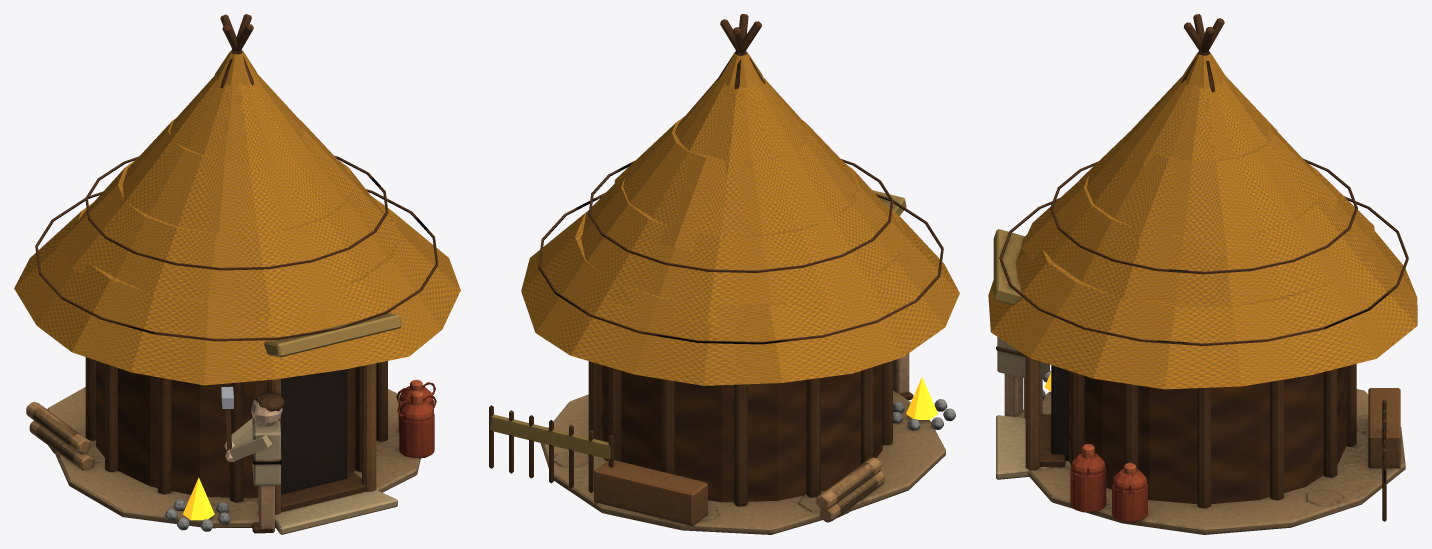
Rendered from chata.glb.
The picture shows the model from 3 angles, left to right: view 1: azimuth 30°, elevation 25°; view 2: azimuth 150°, elevation 25°; view 3: azimuth 270°, elevation 25°; orthographic projection.
Parts seen in each view (by area): view 1: strzecha, chata, sciana_chaty, anim_mlot_rzemieslnik, anim_ogien_palenisko; view 2: strzecha, chata, sciana_chaty, anim_ogien_palenisko; view 3: strzecha, chata, sciana_chaty.
Part boxes in pixels (box(x1,y1,x2,y2)): strzecha: box(14, 50, 460, 385); chata: box(26, 14, 438, 534); sciana_chaty: box(96, 360, 355, 498); anim_mlot_rzemieslnik: box(221, 386, 272, 461); anim_ogien_palenisko: box(183, 477, 214, 520); strzecha: box(521, 52, 959, 385); chata: box(489, 14, 955, 534); sciana_chaty: box(601, 364, 882, 502); anim_ogien_palenisko: box(906, 377, 937, 419); strzecha: box(988, 52, 1417, 389); chata: box(993, 14, 1408, 534); sciana_chaty: box(1069, 366, 1346, 504).
Bounding box in the file's own units: 1.9 × 2.06 × 1.86.
9 materials, 3 textured.
